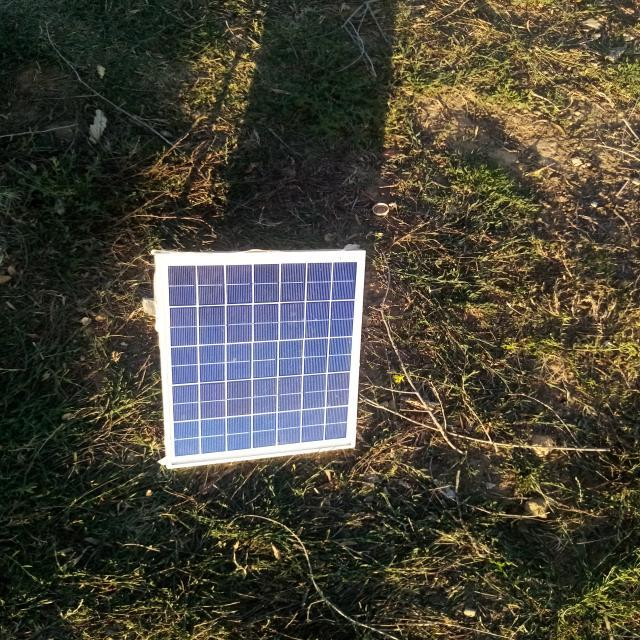no faulty: (156, 253, 366, 467)
